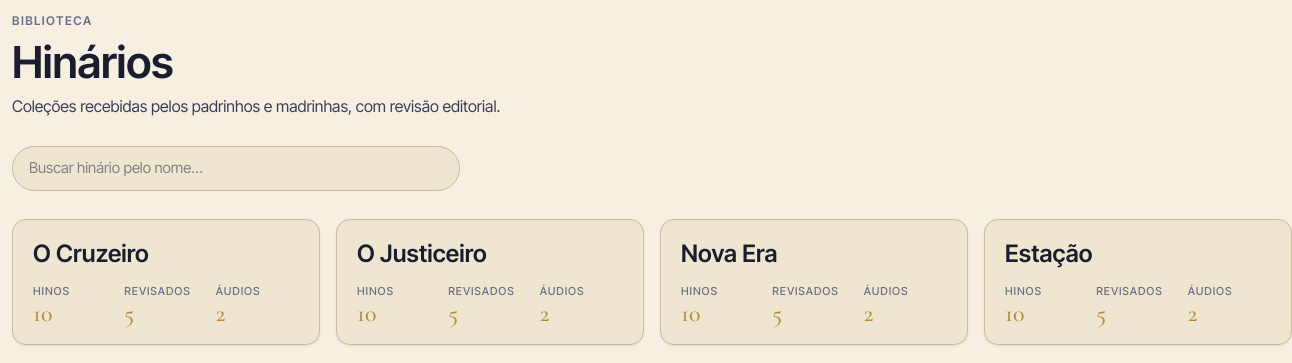
Scenario: +page.svelte (lista de hinários) › mostra estado vazio quando o filtro não casa com nada
Type "xyzpancake" into the search field with test id "hymnbook-search" at (236, 169), box [12, 146, 460, 191]
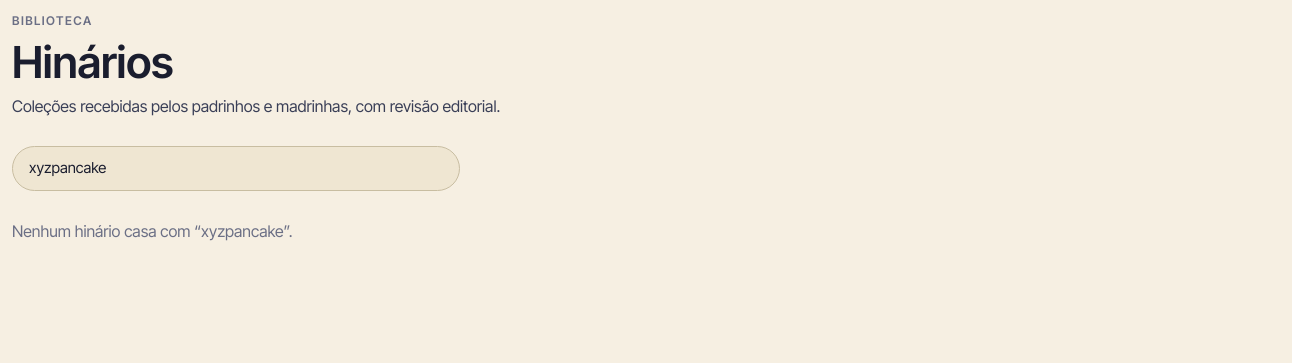
Expected: the text "Nenhum hinário casa com “xyzpancake”." is shown, [12, 221, 293, 241]
Expected: no links with test id "hymnbook-card" are shown
